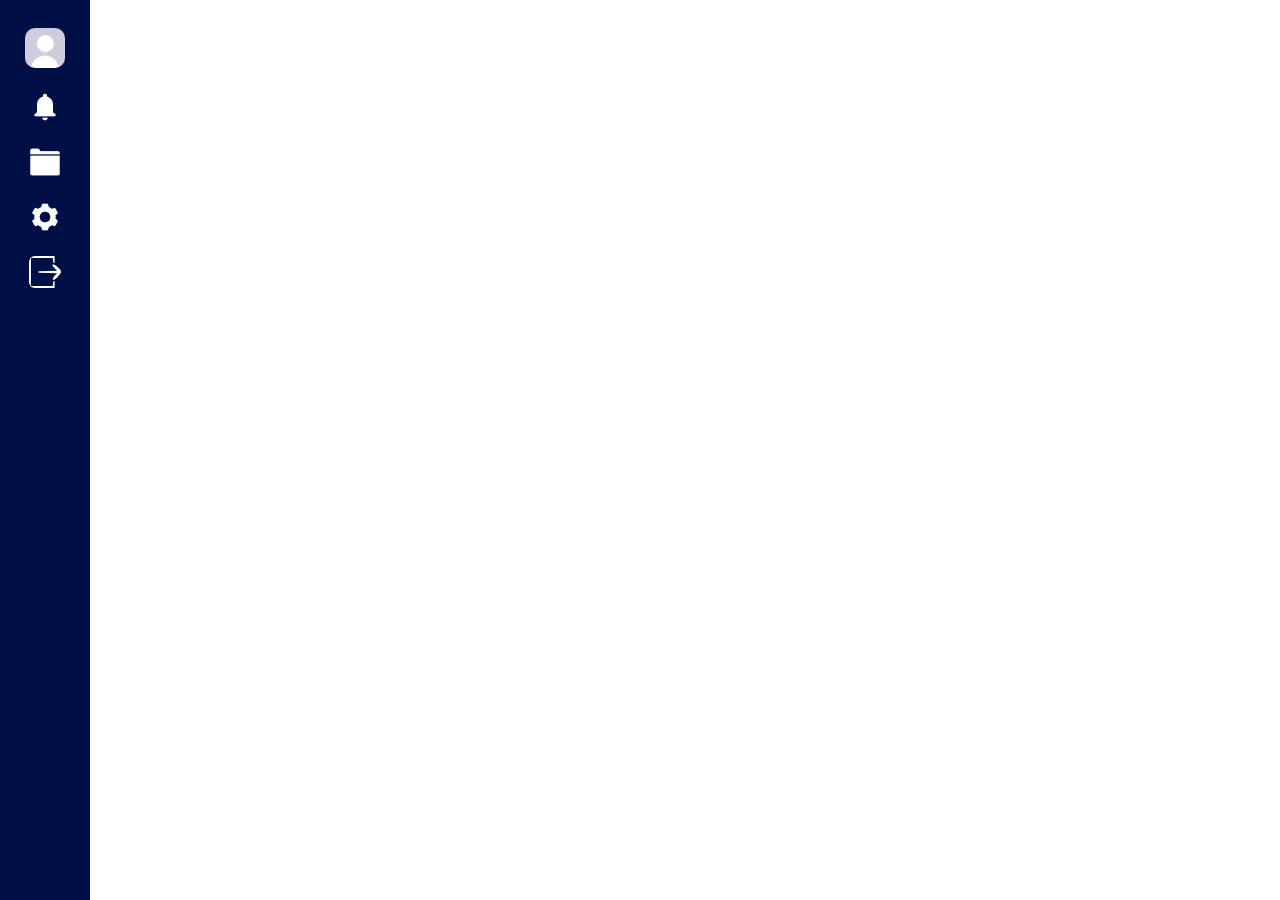
Sidebar › Notifications opens the Notifications PopUp
This screenshot has width=1280, height=900.
Click the 2nd button named "notifications?": x=45, y=108 left=29, top=91, right=61, bottom=126
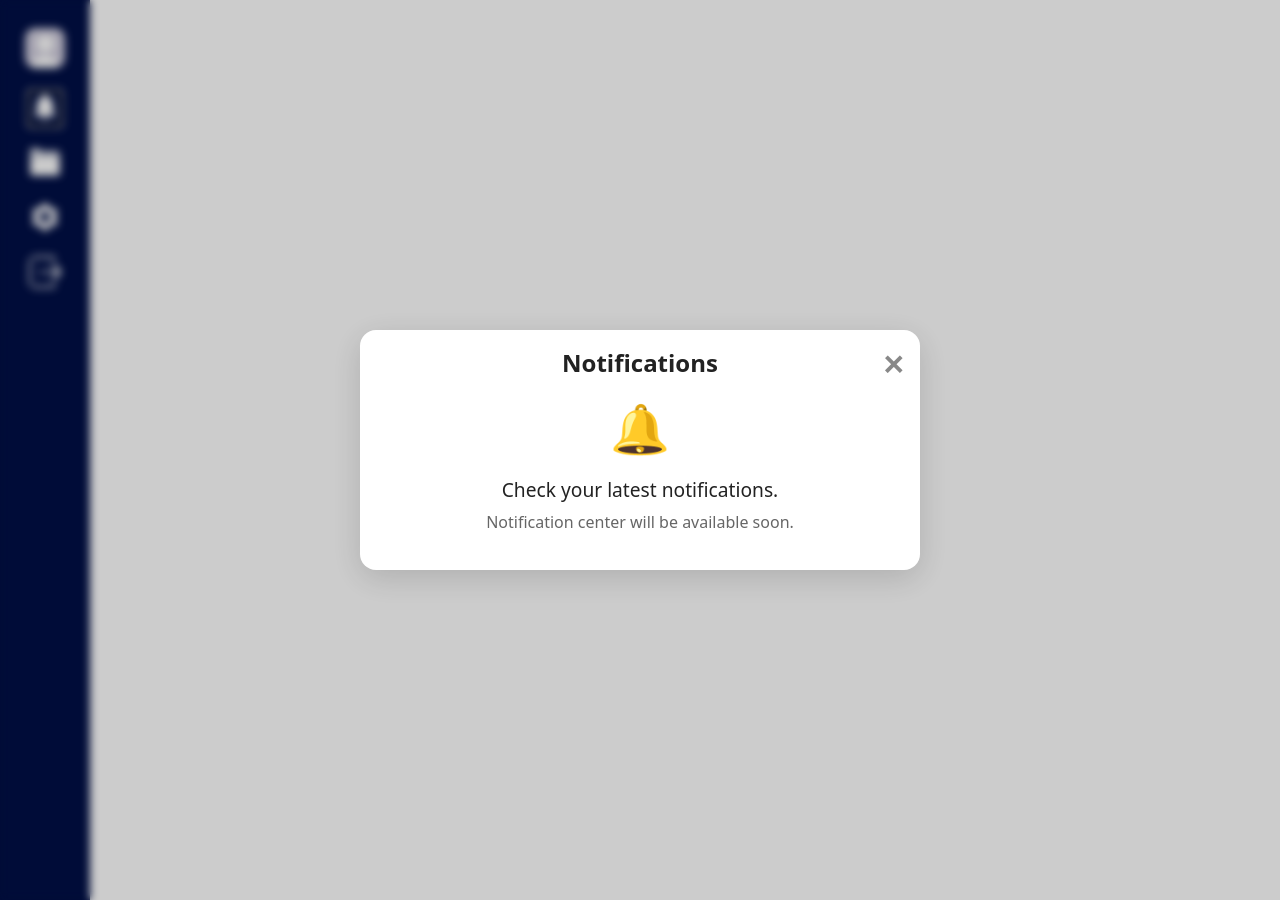
Result: the text "Notifications" is shown at left=562, top=346, right=718, bottom=379
Result: the text "Check your latest notifications." is shown at left=502, top=476, right=778, bottom=503
